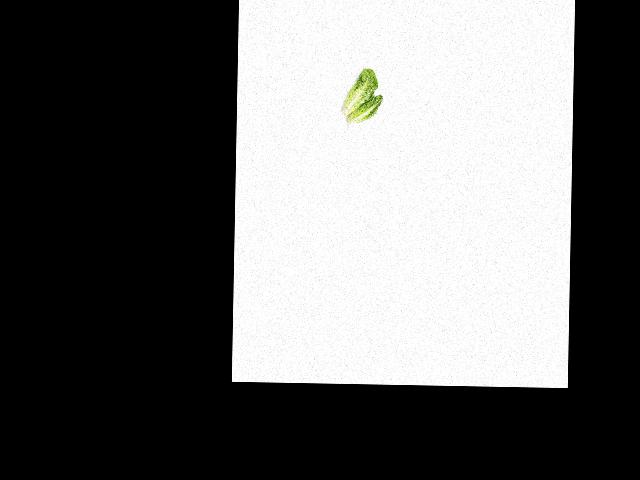lettuce: (338, 67, 380, 113)
